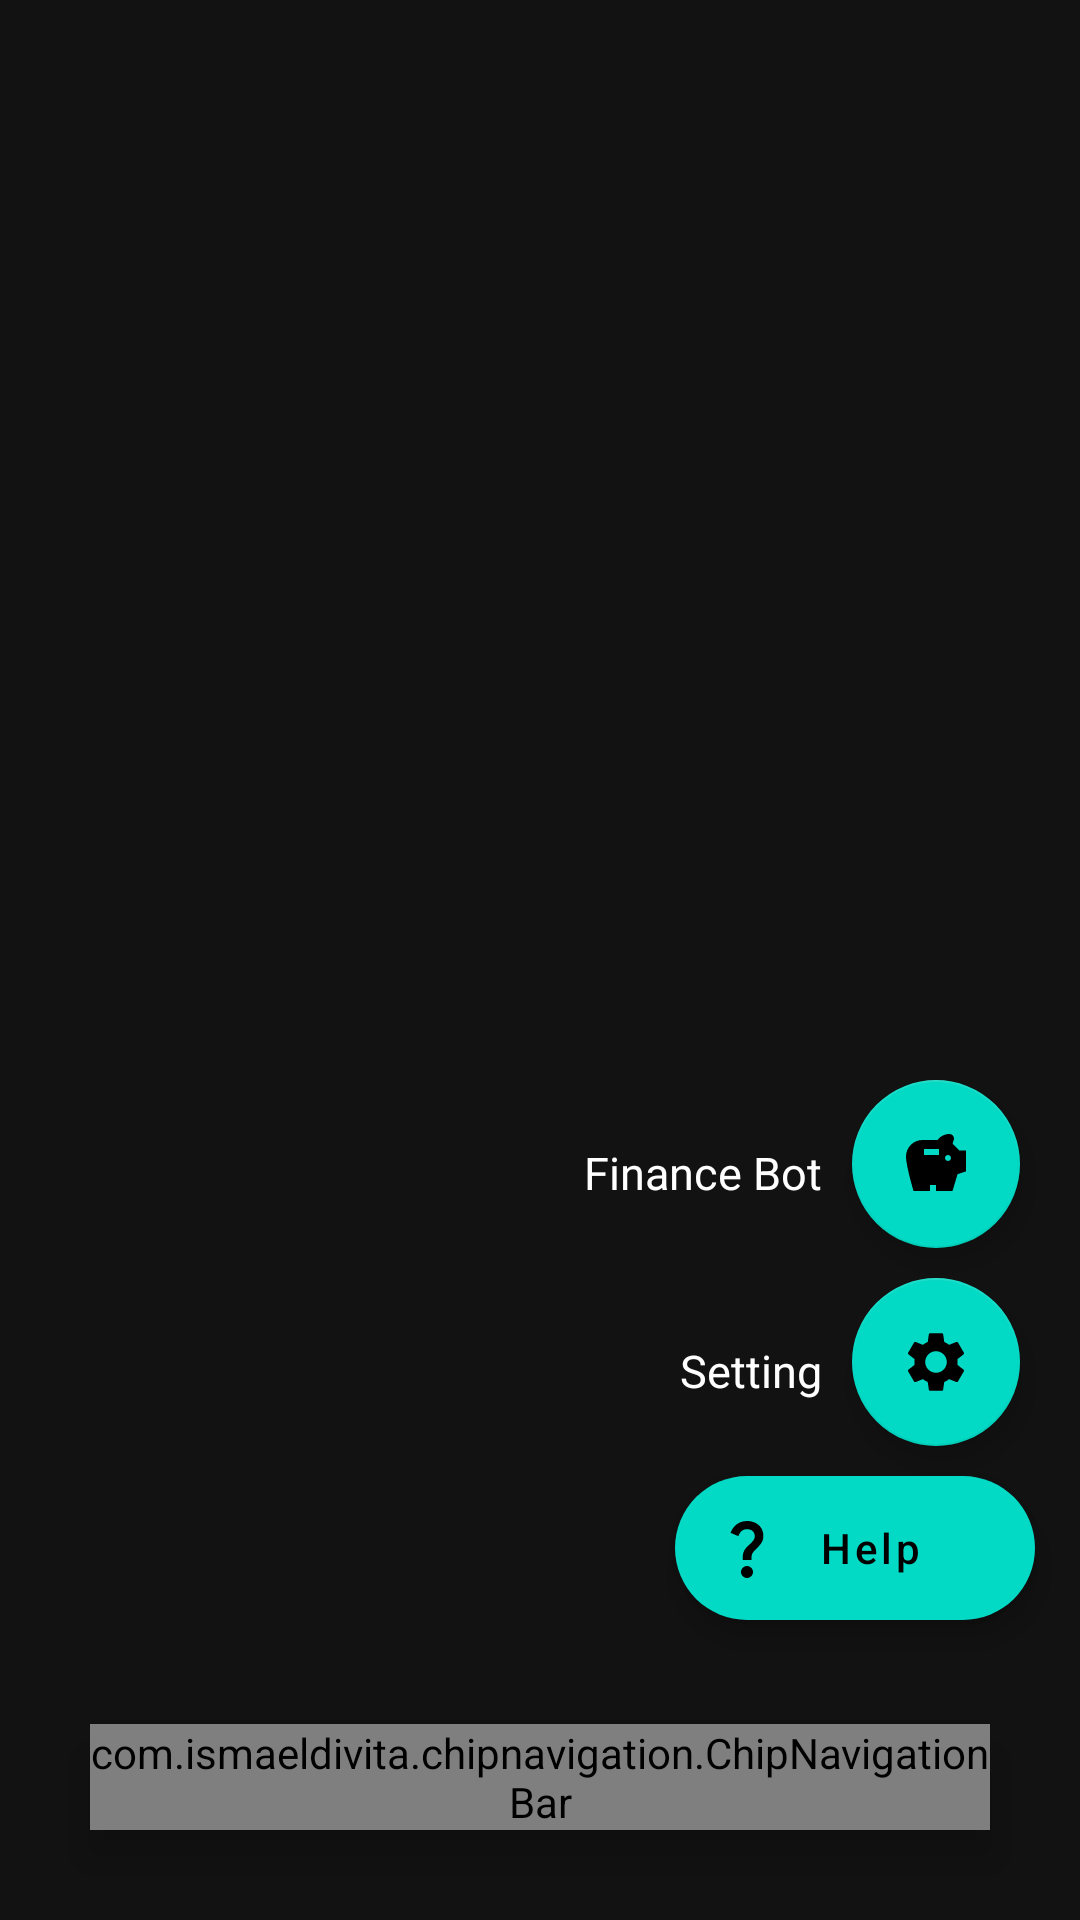

Where icons sit on this 1080 × 1920 app screen, as (x1, y1, x2, y2):
savings: (852, 1080, 1020, 1248)
